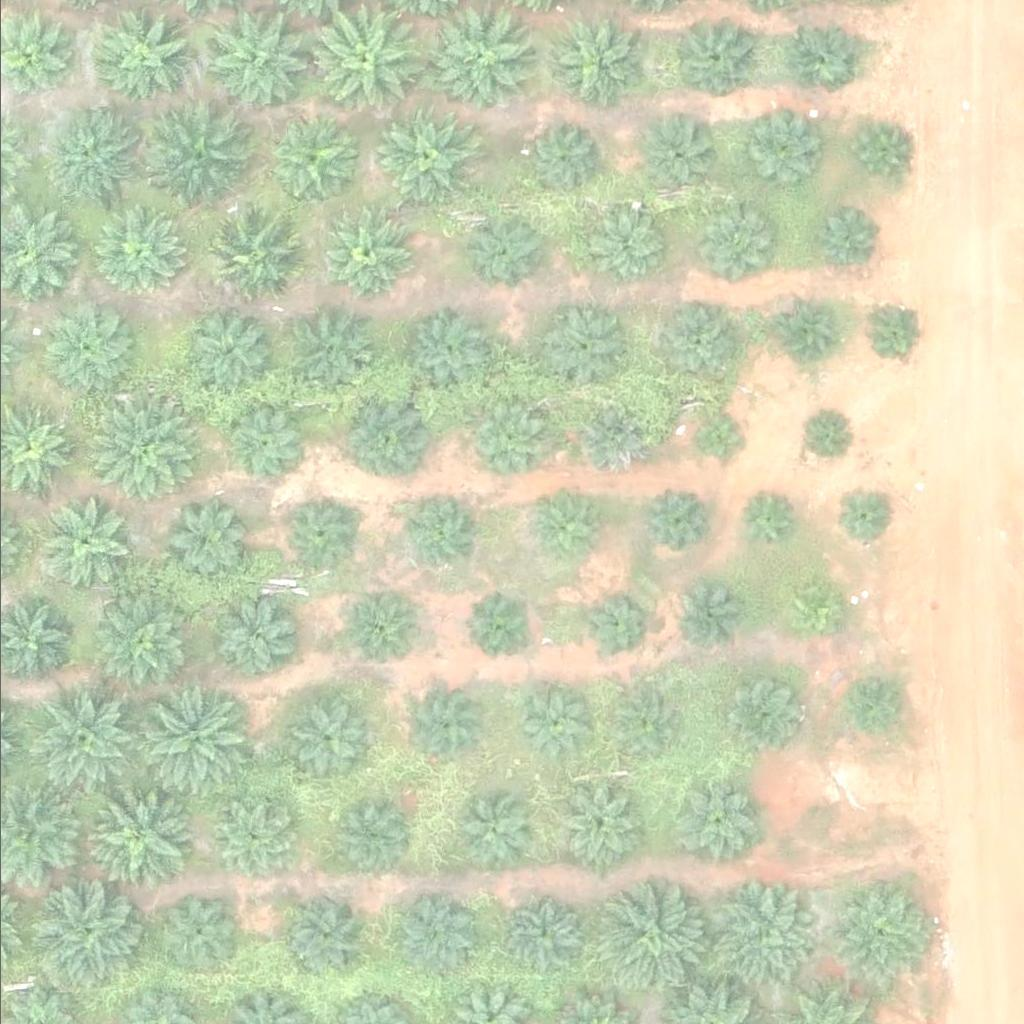Kelapa_Sawit: (701, 883, 815, 996), (594, 889, 708, 1002), (137, 680, 250, 793), (24, 680, 137, 793), (139, 98, 253, 210), (30, 877, 143, 989), (77, 778, 190, 890), (827, 884, 928, 984), (89, 595, 190, 695), (92, 402, 193, 502), (92, 6, 193, 106), (426, 9, 526, 109), (375, 103, 475, 203), (35, 296, 135, 396), (199, 206, 299, 306), (84, 200, 184, 300), (207, 11, 307, 111), (279, 699, 368, 787), (540, 303, 628, 391), (340, 398, 428, 486), (548, 18, 636, 106), (400, 307, 488, 395), (208, 795, 296, 883), (163, 495, 251, 583), (37, 499, 125, 587), (263, 116, 351, 204), (46, 110, 134, 198), (209, 590, 298, 677), (669, 13, 757, 100), (280, 899, 368, 986), (319, 212, 407, 299), (281, 307, 369, 394), (183, 309, 271, 396), (590, 207, 666, 282), (642, 117, 718, 192), (523, 122, 599, 197), (467, 211, 543, 286), (609, 690, 685, 765), (719, 674, 795, 749), (558, 788, 634, 863), (781, 17, 857, 92), (678, 783, 754, 858), (505, 903, 581, 978), (391, 901, 467, 976), (740, 115, 815, 190), (698, 208, 773, 283), (654, 306, 729, 381), (278, 500, 353, 575), (394, 488, 469, 563), (403, 689, 478, 764), (331, 794, 406, 869), (459, 796, 534, 871), (519, 690, 594, 765), (468, 398, 543, 473), (569, 405, 644, 480), (664, 577, 739, 652), (574, 591, 649, 666), (460, 589, 535, 664), (336, 592, 411, 667), (157, 896, 232, 971), (220, 406, 295, 481), (862, 300, 925, 363), (773, 301, 836, 364), (533, 498, 596, 561), (778, 575, 841, 638), (840, 667, 903, 730), (846, 120, 909, 182), (813, 210, 876, 272), (831, 485, 894, 547), (731, 489, 794, 551), (644, 489, 707, 551), (799, 415, 850, 465), (693, 414, 744, 464)
